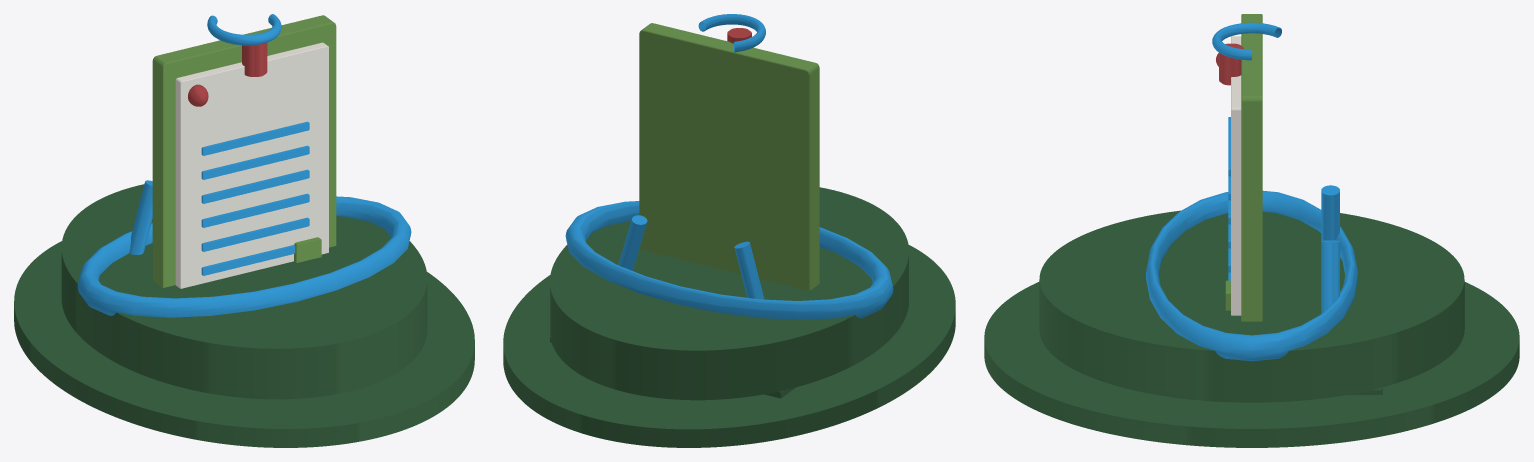
The model's file is 0911_故宫图鉴_帝鉴图说.glb.
The picture shows the model from 3 angles, left to right: view 1: azimuth 30°, elevation 25°; view 2: azimuth 150°, elevation 25°; view 3: azimuth 270°, elevation 25°; orthographic projection.
Visible parts, largest first — view 1: card_0911; view 2: card_0911; view 3: card_0911.
Part boxes in pixels (x1=…): card_0911: x1=14, y1=14, x2=474, y2=447; card_0911: x1=503, y1=14, x2=955, y2=447; card_0911: x1=984, y1=14, x2=1519, y2=447.
Size of the model in its own units: 1.23 by 1 by 1.52.
